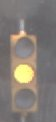Yellow: (10, 27, 37, 121)
